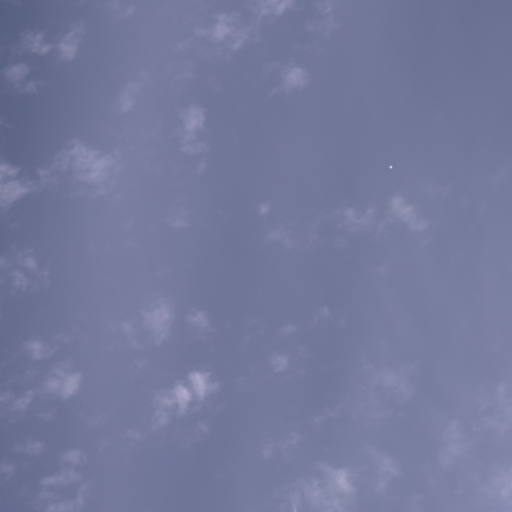Iceberg: (389, 165, 392, 168)
